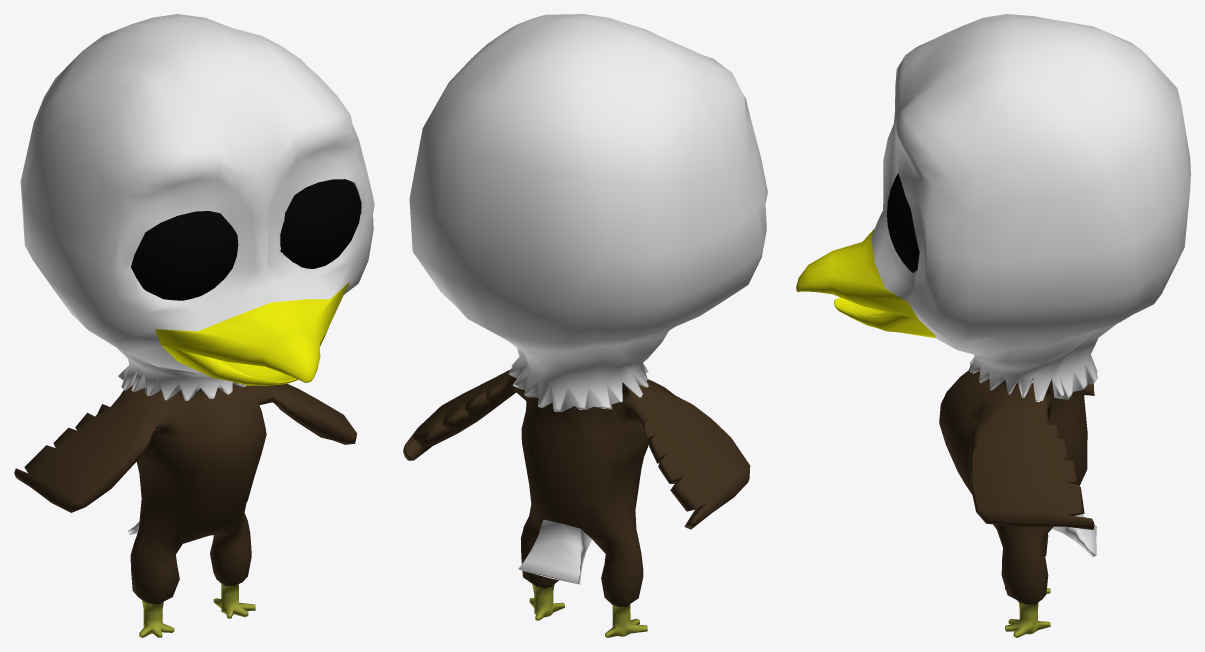
The picture shows the model from 3 angles, left to right: view 1: azimuth 30°, elevation 25°; view 2: azimuth 150°, elevation 25°; view 3: azimuth 270°, elevation 25°; orthographic projection. The views are drawn at different scales.
Parts seen in each view (by area): view 1: polySurface2, polySurface3, BaseRig:EyeMesh_R, BaseRig:EyeMesh_L, polySurface4; view 2: polySurface2; view 3: polySurface2, polySurface3, BaseRig:EyeMesh_L, polySurface4.
Part boxes in pixels (bbox=[...]): polySurface2: bbox=[14, 14, 374, 637]; polySurface3: bbox=[155, 282, 349, 382]; BaseRig:EyeMesh_R: bbox=[131, 211, 238, 300]; BaseRig:EyeMesh_L: bbox=[280, 179, 361, 268]; polySurface4: bbox=[162, 345, 298, 385]; polySurface2: bbox=[403, 14, 767, 637]; polySurface2: bbox=[871, 14, 1190, 637]; polySurface3: bbox=[796, 229, 918, 319]; BaseRig:EyeMesh_L: bbox=[887, 173, 919, 272]; polySurface4: bbox=[834, 297, 935, 338].
Size of the model in its own units: 4.12 by 7.84 by 4.8.
